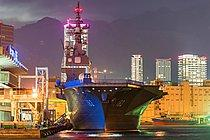MIL_Ship: (58, 9, 169, 133)
